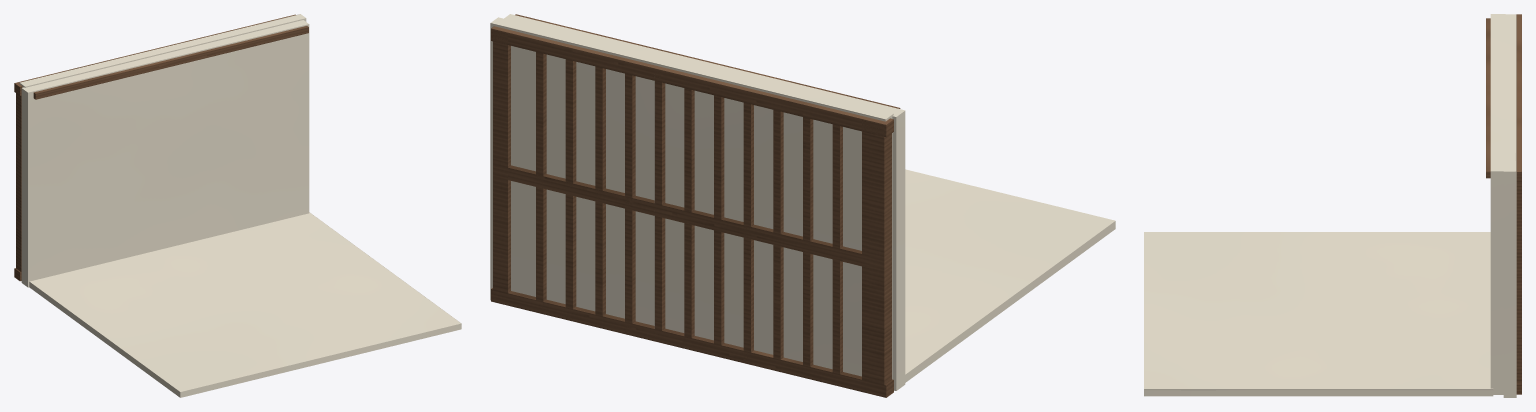
File: med_wall_b.glb
The picture shows the model from 3 angles, left to right: view 1: azimuth 30°, elevation 25°; view 2: azimuth 150°, elevation 25°; view 3: azimuth 270°, elevation 25°; orthographic projection. The views are drawn at different scales.
Visible parts, largest first — view 1: med_wall_b; view 2: med_wall_b; view 3: med_wall_b.
Part boxes in pixels (<box>): med_wall_b: <box>14,14,461,397</box>; med_wall_b: <box>490,14,1115,397</box>; med_wall_b: <box>1144,14,1521,397</box>.
Bounding box in the file's own units: 4.04 × 2.68 × 4.06.
1 material, 1 textured.
